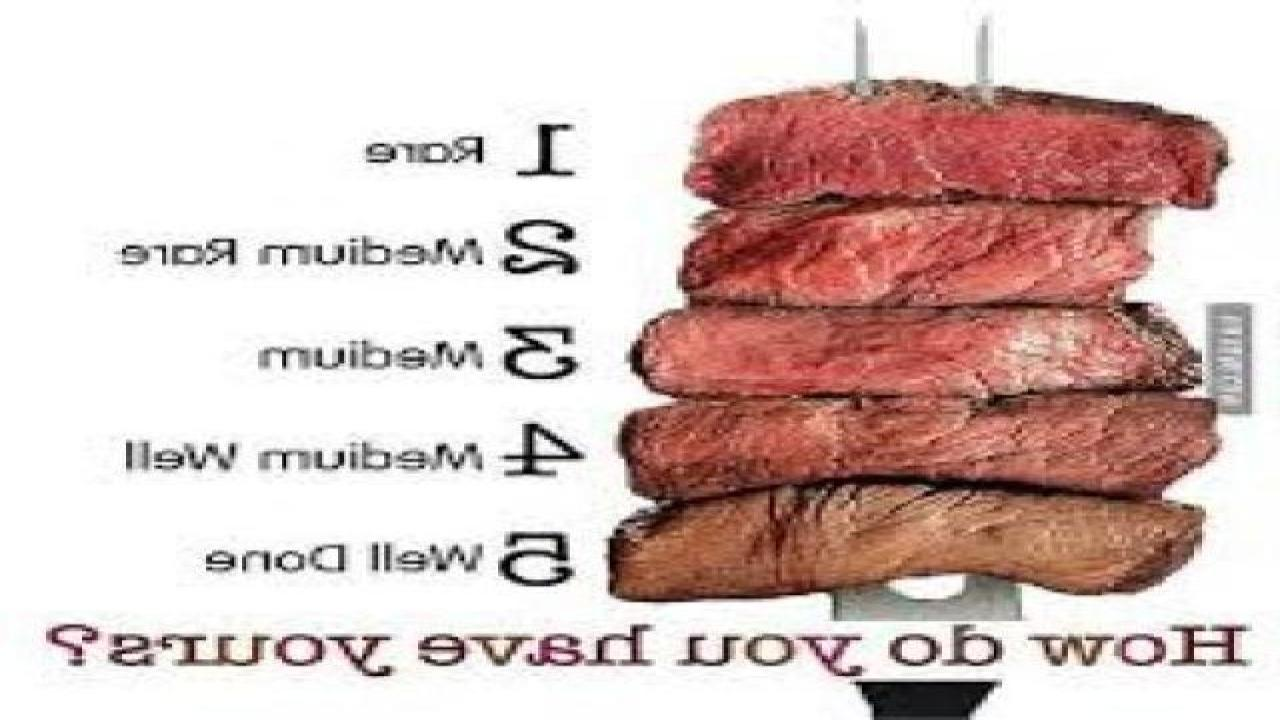Carne: (580, 474, 1234, 605), (629, 68, 1238, 196), (583, 394, 1220, 499), (637, 286, 1212, 401), (680, 193, 1218, 315)
